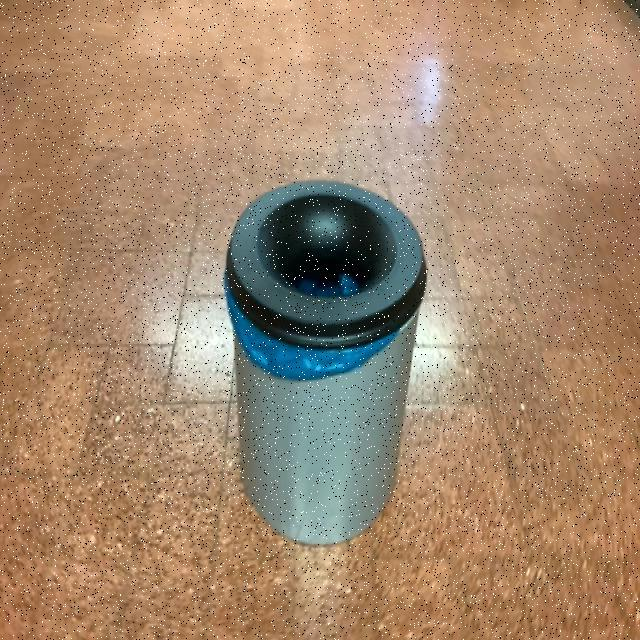garbage container: (185, 148, 461, 560)
